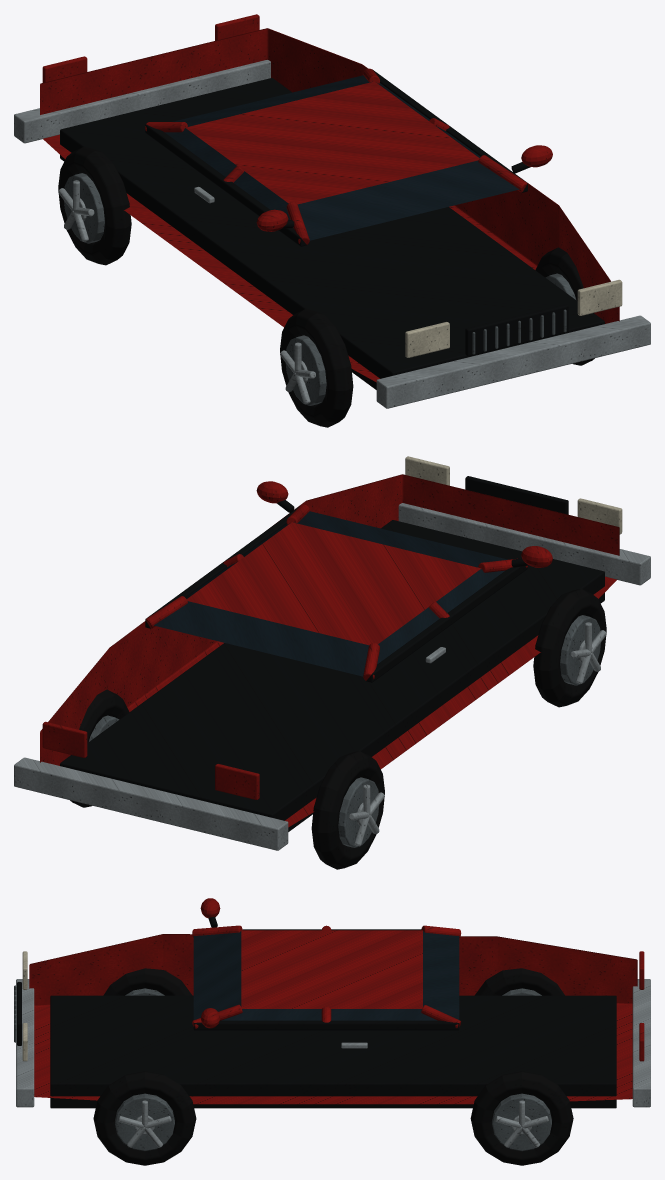
Rendered from PROP-C60F94CA98D3_lod0.glb.
3 renders of one model, top to bottom at view 1: azimuth 30°, elevation 25°; view 2: azimuth 150°, elevation 25°; view 3: azimuth 270°, elevation 25°, orthographic. The views are drawn at different scales.
Visible parts, largest first — view 1: chassis.031, shaped_body_panels.031, roof_panel.029, bumper.031, sloped_cabin_glazing.031, tire.031, rim.031, window_belt.031, radiator_grille.031, lamp_lenses.062, window_pillars.031, rim_spokes.031 (+3 smaller); view 2: chassis.031, shaped_body_panels.031, roof_panel.029, bumper.031, sloped_cabin_glazing.031, tire.031, rim.031, window_belt.031, lamp_lenses.063, window_pillars.031, lamp_lenses.062, rim_spokes.031 (+2 smaller); view 3: chassis.031, shaped_body_panels.031, roof_panel.029, tire.031, sloped_cabin_glazing.031, rim.031, bumper.031, window_belt.031, rim_spokes.031, window_pillars.031, mirror.031, lamp_lenses.062 (+1 smaller).
Boxes of the visible parts, box(x1,y1,x2,y2) form: chassis.031: box(60, 78, 604, 389); shaped_body_panels.031: box(40, 28, 619, 382); roof_panel.029: box(185, 81, 479, 204); bumper.031: box(14, 60, 650, 408); sloped_cabin_glazing.031: box(165, 75, 519, 240); tire.031: box(58, 147, 594, 427); rim.031: box(64, 173, 575, 405); window_belt.031: box(145, 69, 527, 246); radiator_grille.031: box(465, 304, 568, 356); lamp_lenses.062: box(405, 279, 622, 357); window_pillars.031: box(145, 68, 528, 244); rim_spokes.031: box(58, 180, 315, 404); chassis.031: box(60, 520, 604, 831); shaped_body_panels.031: box(40, 474, 619, 827); roof_panel.029: box(186, 522, 481, 645); bumper.031: box(14, 503, 650, 850); sloped_cabin_glazing.031: box(154, 511, 507, 676); tire.031: box(70, 589, 606, 869); rim.031: box(89, 615, 600, 847); window_belt.031: box(145, 505, 527, 682); lamp_lenses.063: box(42, 721, 259, 799); window_pillars.031: box(145, 504, 527, 680); lamp_lenses.062: box(405, 456, 622, 534); rim_spokes.031: box(349, 622, 606, 846); chassis.031: box(50, 995, 616, 1108); shaped_body_panels.031: box(29, 934, 637, 1104); roof_panel.029: box(241, 930, 422, 1008); tire.031: box(93, 968, 573, 1165); sloped_cabin_glazing.031: box(193, 931, 459, 1020); rim.031: box(115, 988, 551, 1151); bumper.031: box(16, 979, 650, 1107); window_belt.031: box(193, 929, 459, 1030); rim_spokes.031: box(118, 1100, 548, 1147); window_pillars.031: box(192, 925, 461, 1028); mirror.031: box(200, 898, 220, 1028); lamp_lenses.062: box(22, 951, 27, 1061).
Bounding box in the file's own units: 2.09 × 1.24 × 4.56.
7 materials, 7 textured.
